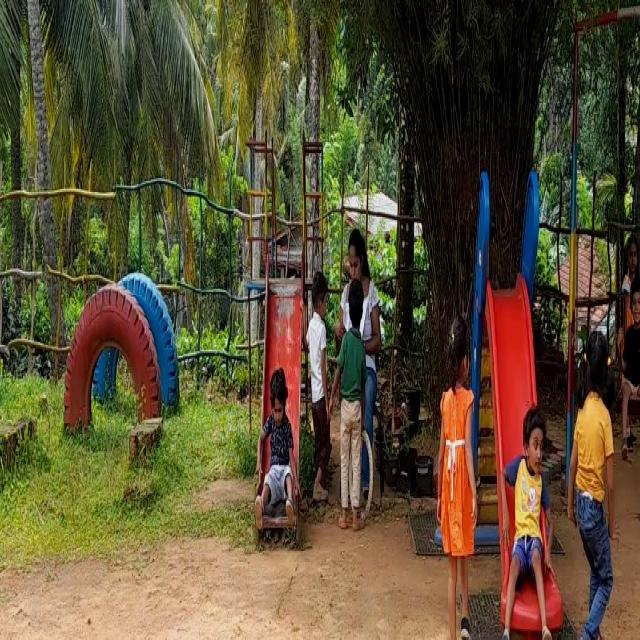child: (432, 315, 478, 640), (581, 353, 621, 640), (332, 283, 371, 529), (303, 259, 336, 517), (510, 421, 545, 640), (256, 374, 296, 531), (621, 286, 640, 452)
